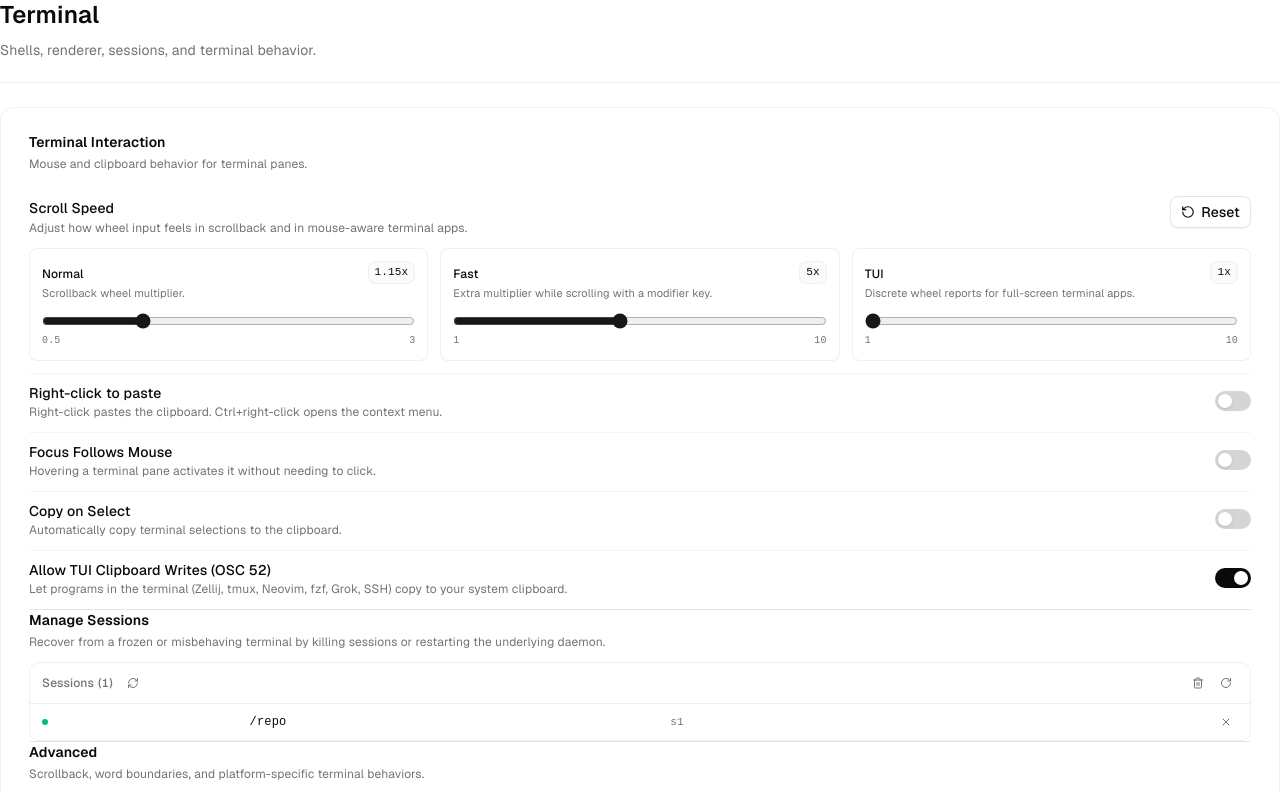
terminal restart daemon (R16-AD2) › restart arms first, then restarts and reports
Click the button named "Restart daemon" at x=1226, y=683, box [1214,671,1238,695]
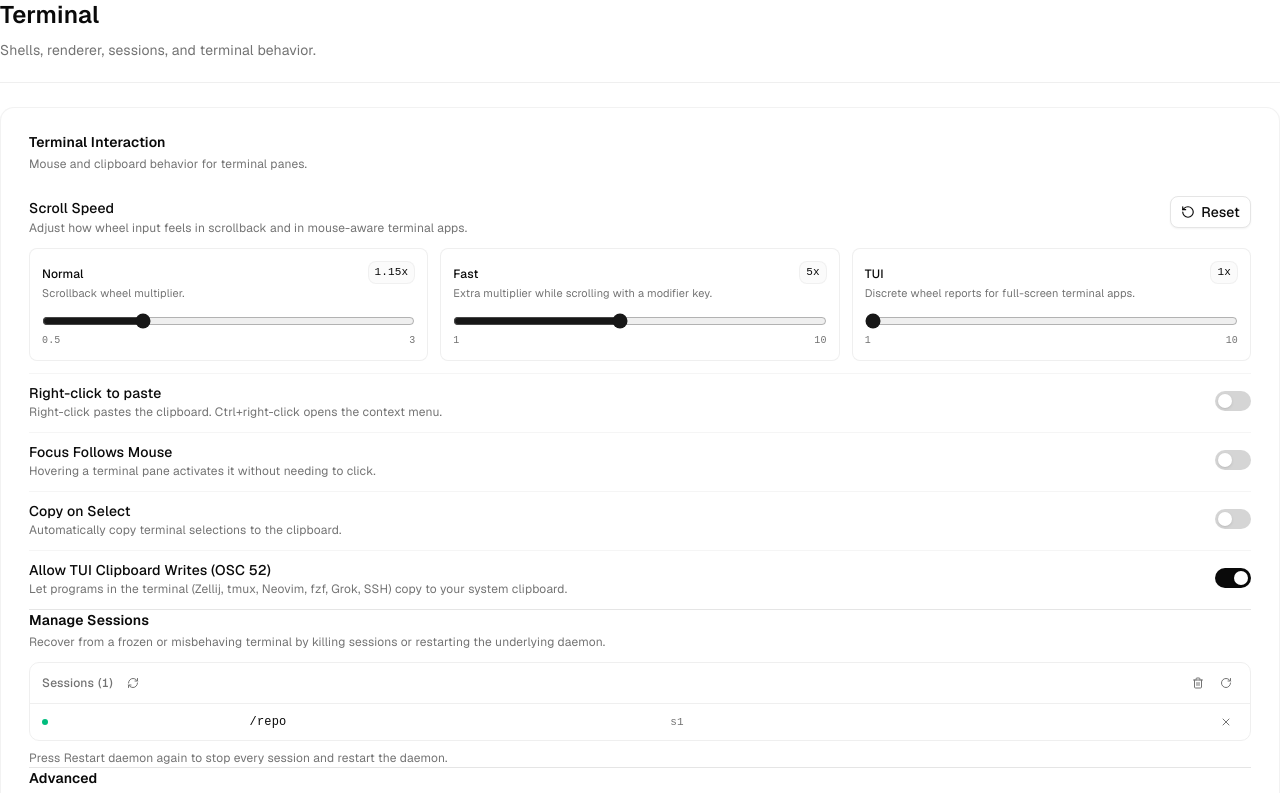
Expected: the text "Press Restart daemon again to stop every session and restart the daemon." is shown, [29,750,448,766]
Click the button named "Confirm restart daemon" at x=1226, y=683, box [1214,671,1238,695]
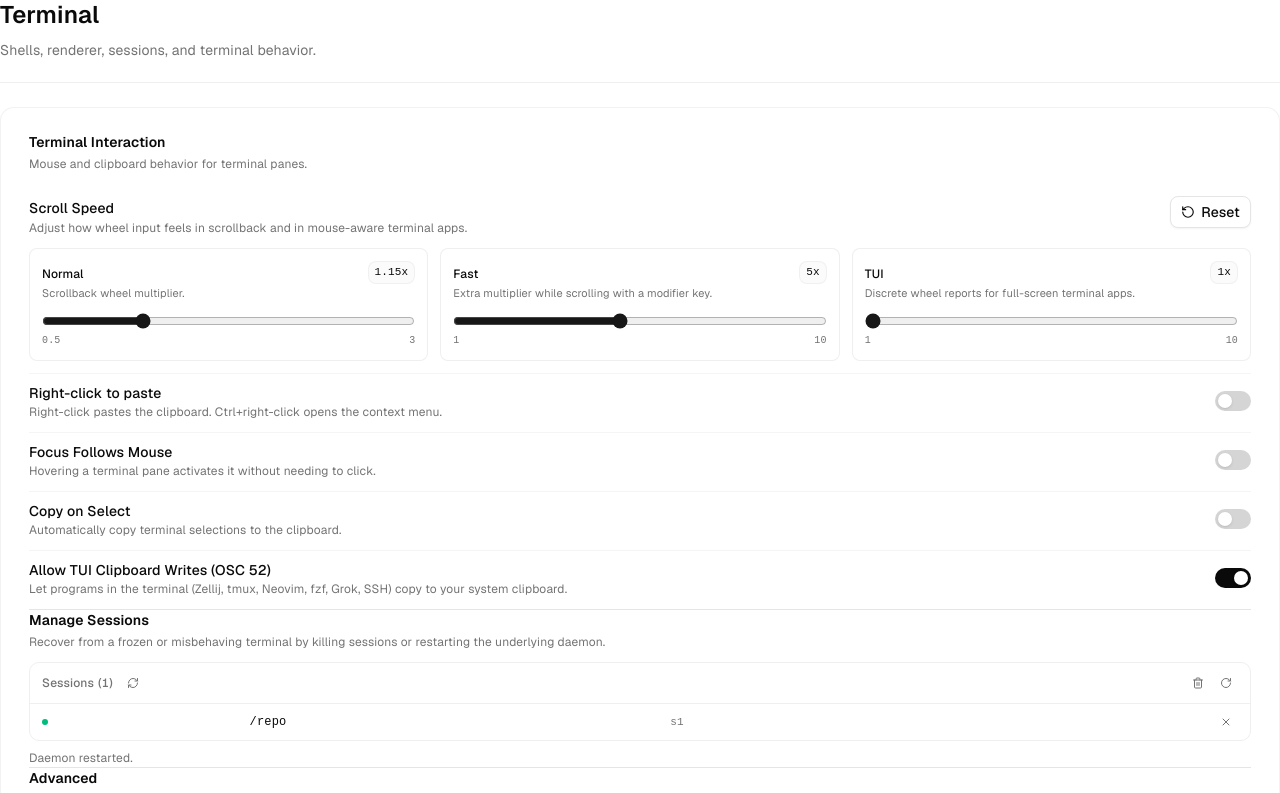
Expected: the text "(1)" is shown, [98,675,113,691]
Expected: the text "Daemon restarted." is shown, [29,750,133,766]
